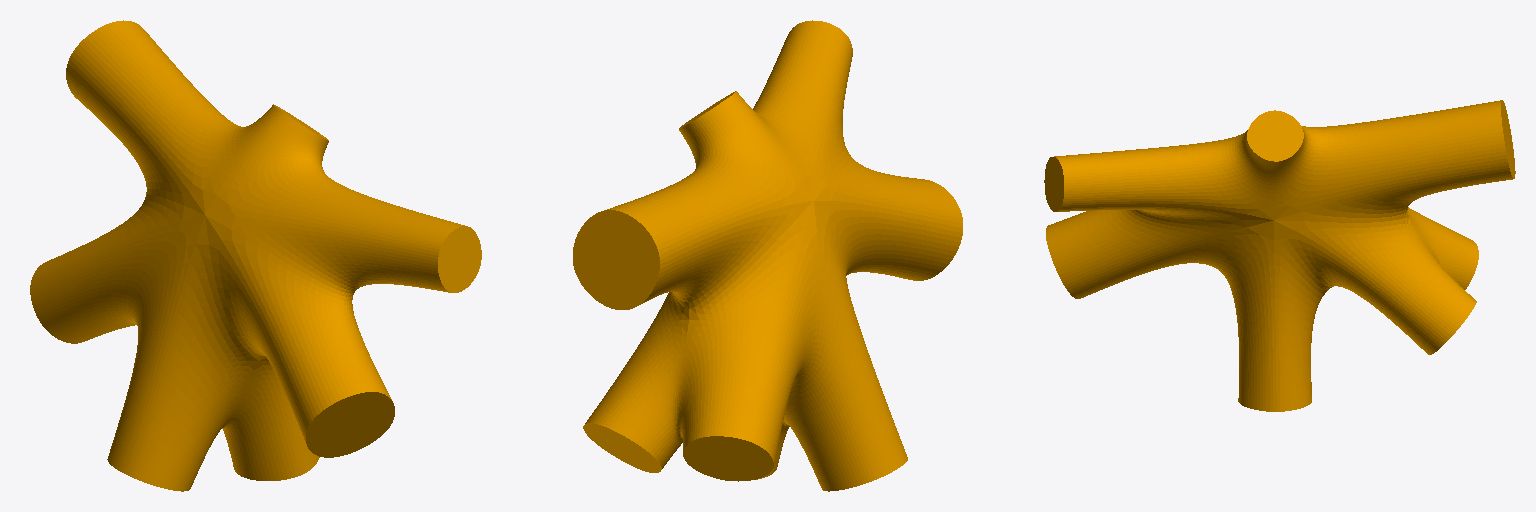
robot.urdf — object:
<robot name="object">
  <link name="object">
    <visual>
      <origin xyz="0 0 0"/>
      <geometry>
        <mesh filename="visual.obj" scale="1 1 1"/>
      </geometry>
    </visual>
    <collision>
      <origin xyz="0 0 0"/>
      <geometry>
        <mesh filename="visual.obj" scale="1 1 1"/>
      </geometry>
    </collision>
    <inertial>
      <mass value="0.05"/>
      <inertia ixx="0.0001190298636892402" iyy="4.9499203441470994e-05" izz="9.098643767904214e-05" ixy="5.059738966789758e-06" ixz="-8.177549712596679e-06" iyz="7.414525101206646e-07"/>
    </inertial>
  </link>
</robot>

--- Facts derived from the render (not from the file) ---
Views: 3 orthographic renders of the robot side by side, from view 1: azimuth 30°, elevation 25°; view 2: azimuth 150°, elevation 25°; view 3: azimuth 270°, elevation 25°.
Robot: object — 1 links, 0 joints (none); root link object; default pose: every joint at zero.
Links seen in each view (by area): view 1: object; view 2: object; view 3: object.
Boxes of the visible links, x1,y1,x2,y2 form: object: (30,20,481,491); object: (573,20,962,491); object: (1044,100,1515,411).
Bounding box of the posed robot: 0.0895 × 0.1829 × 0.1267 m (x, y, z).
1 mesh visuals loaded from 1 distinct referenced files (1 OBJ).
